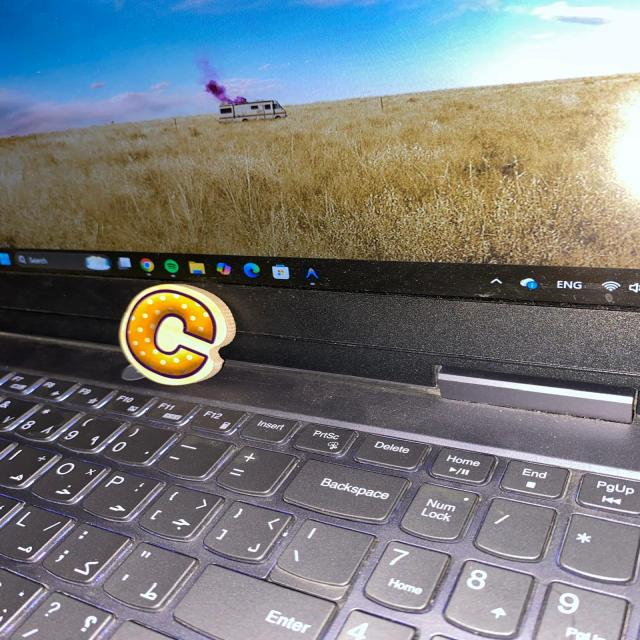C: (120, 284, 235, 385)
